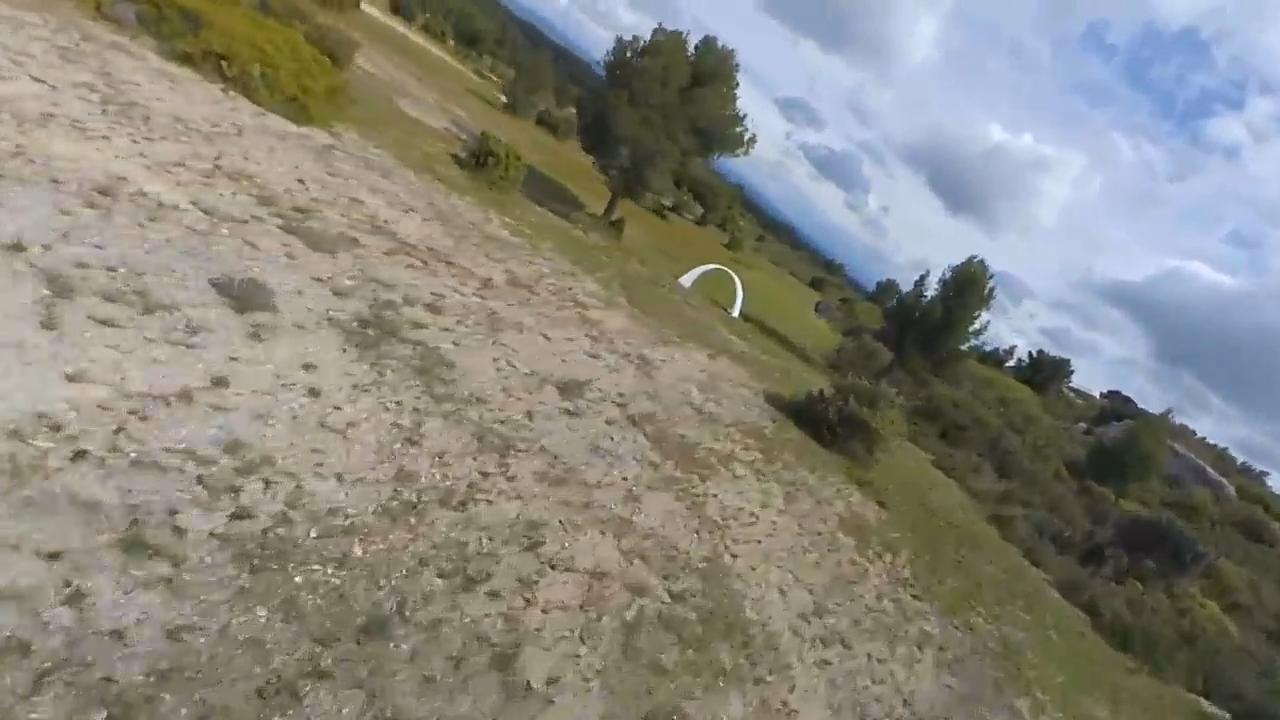gate: (677, 262, 743, 322)
